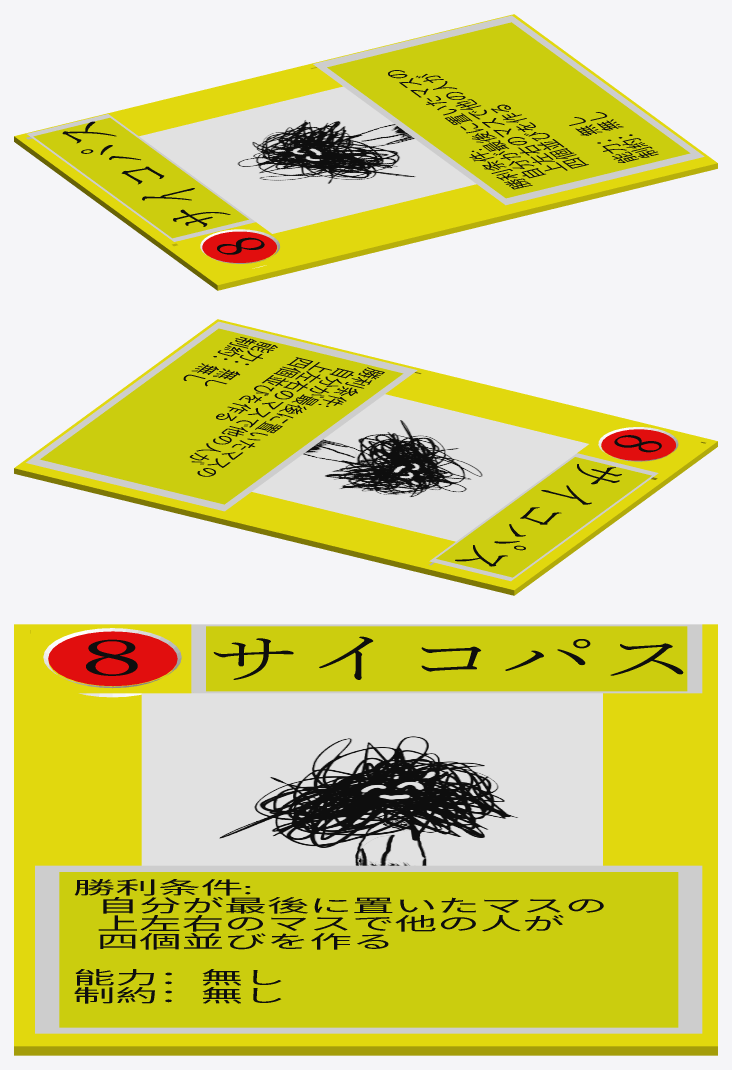
File: サイコパス黄.fbx
3 views of the same model, one above another, from view 1: azimuth 30°, elevation 25°; view 2: azimuth 150°, elevation 25°; view 3: azimuth 270°, elevation 25° (orthographic). The views are drawn at different scales.
Visible parts, largest first — view 1: 説明欄, 平面.001, カード本体.001, 名前欄, 説明文, 平面, 円, 名前; view 2: 説明欄, 平面.001, カード本体.001, 名前欄, 説明文, 円, 平面, 名前; view 3: 説明欄, 平面.001, カード本体.001, 名前欄, 説明文, 平面, 円, 名前, コスト蘭, コスト.
Part boxes in pixels (x1,y1,x2,y2): 説明欄: [313, 15, 704, 205]; 平面.001: [139, 86, 476, 233]; カード本体.001: [14, 14, 717, 290]; 名前欄: [27, 114, 255, 241]; 説明文: [388, 70, 658, 189]; 平面: [174, 222, 302, 275]; 円: [202, 231, 276, 262]; 名前: [62, 121, 230, 226]; 説明欄: [26, 321, 417, 511]; 平面.001: [252, 394, 588, 541]; カード本体.001: [14, 319, 717, 595]; 名前欄: [429, 453, 658, 581]; 説明文: [183, 337, 384, 476]; 円: [601, 429, 675, 460]; 平面: [577, 419, 704, 472]; 名前: [455, 464, 621, 566]; 説明欄: [35, 865, 702, 1033]; 平面.001: [141, 693, 602, 865]; カード本体.001: [14, 624, 717, 1055]; 名前欄: [191, 624, 702, 693]; 説明文: [74, 879, 603, 1003]; 平面: [30, 624, 191, 693]; 円: [48, 631, 177, 686]; 名前: [213, 636, 683, 679]; コスト蘭: [43, 628, 181, 697]; コスト: [86, 639, 137, 675].
Bounding box in the file's own units: 281 × 6.07 × 198.
